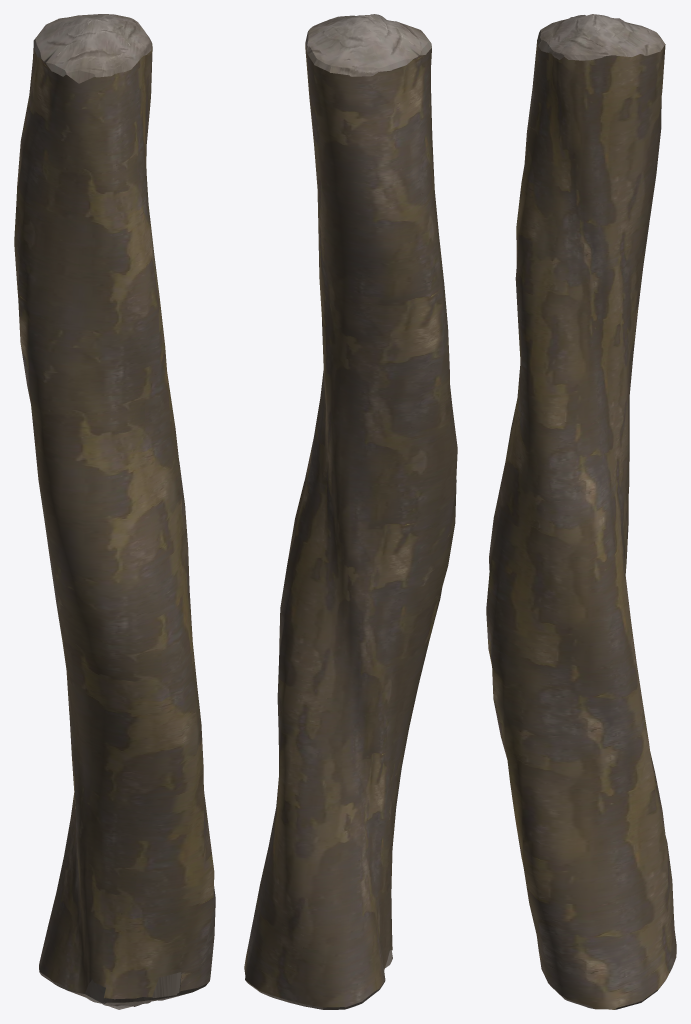
3 renders of one model, left to right at view 1: azimuth 30°, elevation 25°; view 2: azimuth 150°, elevation 25°; view 3: azimuth 270°, elevation 25°, orthographic. The views are drawn at different scales.
Visible parts, largest first — view 1: SM_Yew_02_tree_quarters_bottom_LOD0; view 2: SM_Yew_02_tree_quarters_bottom_LOD0; view 3: SM_Yew_02_tree_quarters_bottom_LOD0.
Boxes of the visible parts, x1,y1,x2,y2 form: SM_Yew_02_tree_quarters_bottom_LOD0: (14,14,215,1009); SM_Yew_02_tree_quarters_bottom_LOD0: (244,14,457,1009); SM_Yew_02_tree_quarters_bottom_LOD0: (486,14,676,1009).
Size of the model in its own units: 1.26 by 6.58 by 1.18.
1 material, 1 textured.
